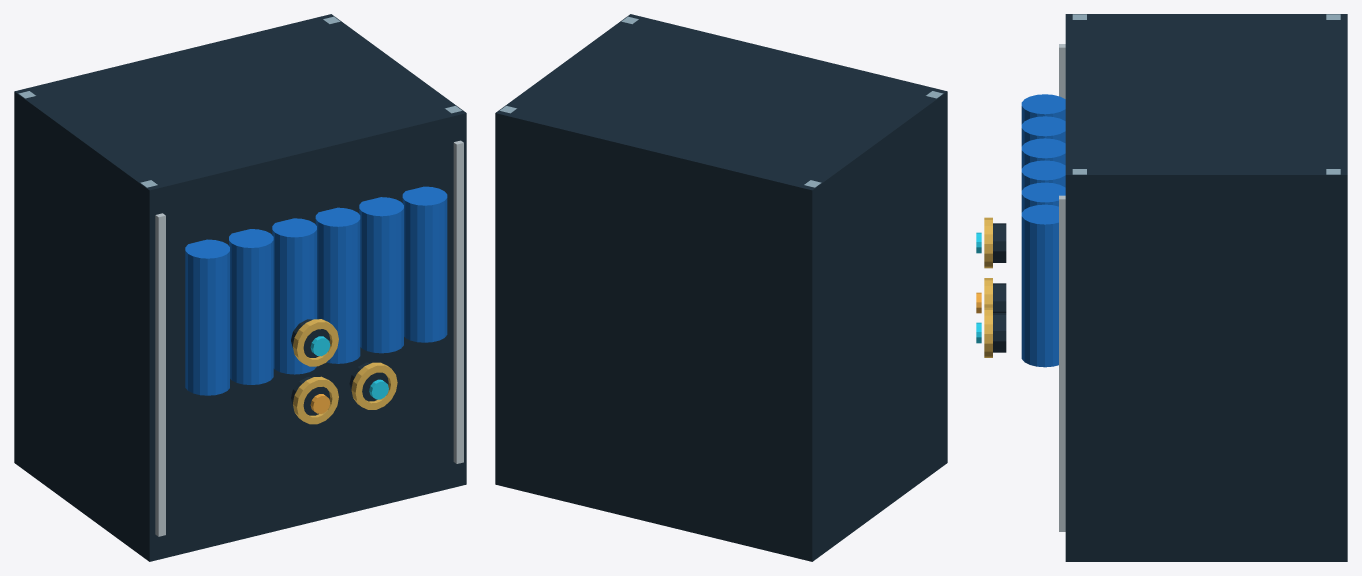
Rendered from 32_L83_BusBulkCapacitorModule.fbx.
3 views of the same model, side by side, from view 1: azimuth 30°, elevation 25°; view 2: azimuth 150°, elevation 25°; view 3: azimuth 270°, elevation 25° (orthographic). The views are drawn at different scales.
Visible parts, largest first — view 1: BusBulkCapacitorModule; view 2: BusBulkCapacitorModule; view 3: BusBulkCapacitorModule.
Part boxes in pixels (box(x1,y1,x2,y2)): BusBulkCapacitorModule: box(14, 14, 466, 561); BusBulkCapacitorModule: box(495, 14, 947, 561); BusBulkCapacitorModule: box(976, 14, 1347, 561).
Size of the model in its own units: 92 by 103 by 89.56.
